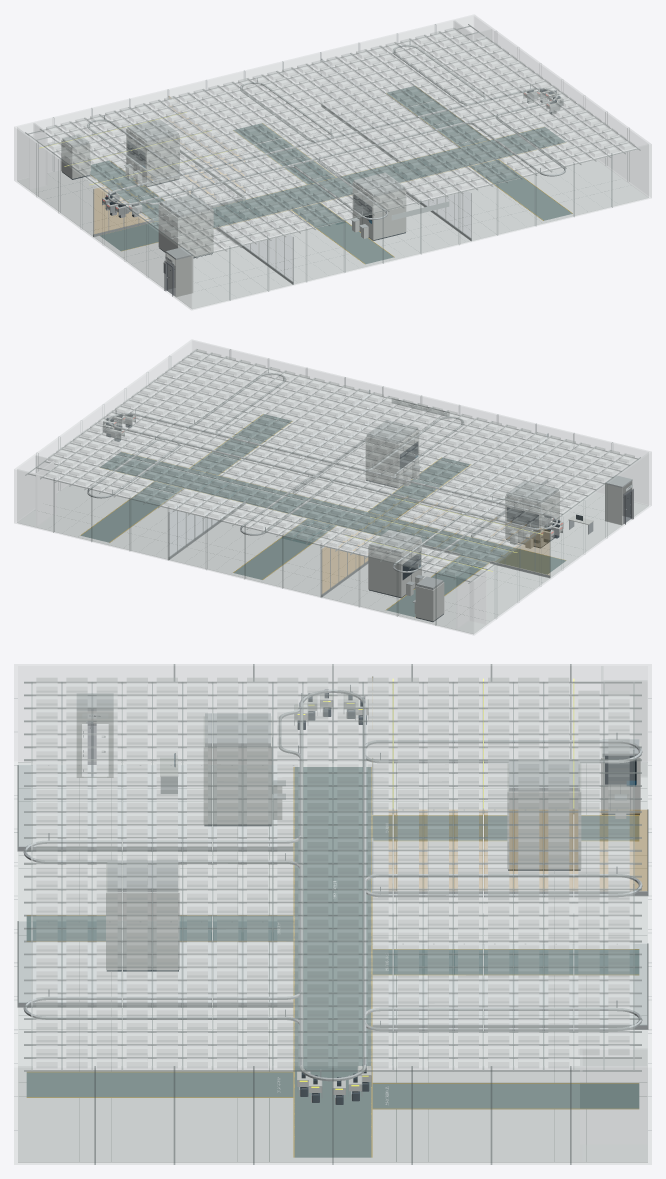
Rendered from fab1-cleanroom-l2.glb.
The picture shows the model from 3 angles, top to bottom: view 1: azimuth 30°, elevation 25°; view 2: azimuth 150°, elevation 25°; view 3: azimuth 270°, elevation 25°; orthographic projection. The views are drawn at different scales.
Parts seen in each view (by area): view 1: FAB1_L2_Walls, FAB1_L2_FFU_West, FAB1_L2_FFU_East, FAB1_L2_RaisedFloor, FAB1_L2_Aisles, FAB1_L2_CeilingGrid, FAB1_L2_OHTRails, FAB1_L2_BayWalls, FAB1_L2_STK-02, FAB1_L2_STK-01, FAB1_L2_STK-03, FAB1_L2_PhotoEnclosure (+3 smaller); view 2: FAB1_L2_Walls, FAB1_L2_FFU_West, FAB1_L2_FFU_East, FAB1_L2_RaisedFloor, FAB1_L2_Aisles, FAB1_L2_CeilingGrid, FAB1_L2_OHTRails, FAB1_L2_PhotoEnclosure, FAB1_L2_STK-03, FAB1_L2_STK-02, FAB1_L2_RiserShafts, FAB1_L2_STK-01 (+3 smaller); view 3: FAB1_L2_FFU_East, FAB1_L2_FFU_West, FAB1_L2_Walls, FAB1_L2_RaisedFloor, FAB1_L2_Aisles, FAB1_L2_CeilingGrid, FAB1_L2_BayWalls, FAB1_L2_OHTRails, FAB1_L2_STK-03, FAB1_L2_STK-02, FAB1_L2_STK-01, FAB1_L2_RiserShafts (+5 smaller).
Boxes of the visible parts, bbox=[...] form: FAB1_L2_Walls: bbox=[14, 15, 651, 309]; FAB1_L2_FFU_West: bbox=[45, 78, 414, 255]; FAB1_L2_FFU_East: bbox=[251, 27, 635, 201]; FAB1_L2_RaisedFloor: bbox=[18, 76, 648, 308]; FAB1_L2_Aisles: bbox=[90, 86, 572, 264]; FAB1_L2_CeilingGrid: bbox=[25, 24, 640, 258]; FAB1_L2_OHTRails: bbox=[87, 41, 565, 219]; FAB1_L2_BayWalls: bbox=[216, 58, 471, 284]; FAB1_L2_STK-02: bbox=[351, 173, 406, 240]; FAB1_L2_STK-01: bbox=[158, 194, 213, 258]; FAB1_L2_STK-03: bbox=[124, 119, 179, 186]; FAB1_L2_PhotoEnclosure: bbox=[93, 96, 245, 236]; FAB1_L2_Walls: bbox=[14, 340, 651, 634]; FAB1_L2_FFU_West: bbox=[251, 403, 636, 576]; FAB1_L2_FFU_East: bbox=[45, 349, 414, 526]; FAB1_L2_RaisedFloor: bbox=[17, 394, 648, 633]; FAB1_L2_Aisles: bbox=[80, 414, 566, 617]; FAB1_L2_CeilingGrid: bbox=[25, 349, 640, 583]; FAB1_L2_OHTRails: bbox=[87, 369, 557, 572]; FAB1_L2_PhotoEnclosure: bbox=[321, 496, 550, 597]; FAB1_L2_STK-03: bbox=[368, 530, 424, 597]; FAB1_L2_STK-02: bbox=[365, 420, 421, 488]; FAB1_L2_RiserShafts: bbox=[35, 455, 485, 628]; FAB1_L2_STK-01: bbox=[505, 481, 559, 548]; FAB1_L2_FFU_East: bbox=[33, 872, 632, 1069]; FAB1_L2_FFU_West: bbox=[33, 678, 632, 875]; FAB1_L2_Walls: bbox=[14, 664, 651, 1164]; FAB1_L2_RaisedFloor: bbox=[18, 762, 647, 1162]; FAB1_L2_Aisles: bbox=[26, 767, 639, 1157]; FAB1_L2_CeilingGrid: bbox=[24, 681, 641, 1071]; FAB1_L2_BayWalls: bbox=[17, 765, 648, 1029]; FAB1_L2_OHTRails: bbox=[23, 684, 642, 1081]; FAB1_L2_STK-03: bbox=[507, 760, 580, 870]; FAB1_L2_STK-02: bbox=[106, 860, 179, 971]; FAB1_L2_STK-01: bbox=[204, 713, 285, 826]; FAB1_L2_RiserShafts: bbox=[580, 666, 647, 1144].
Bounding box in the file's own units: 36.19 × 4.06 × 24.16.
Materials: 16 (1 with a texture image).
